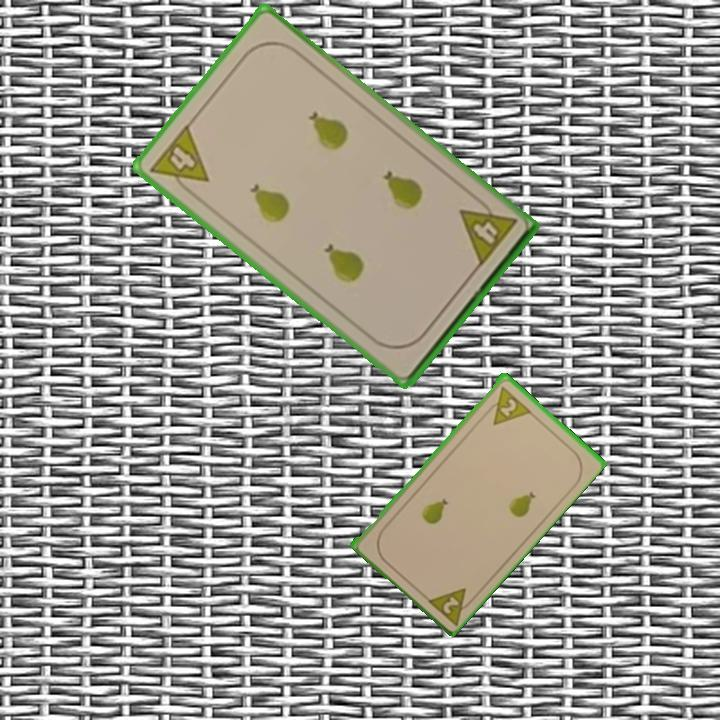2p: (422, 583, 479, 627), (481, 381, 533, 428)
4p: (146, 120, 212, 201), (454, 191, 520, 270)
